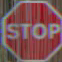Stop: (2, 5, 60, 56)
